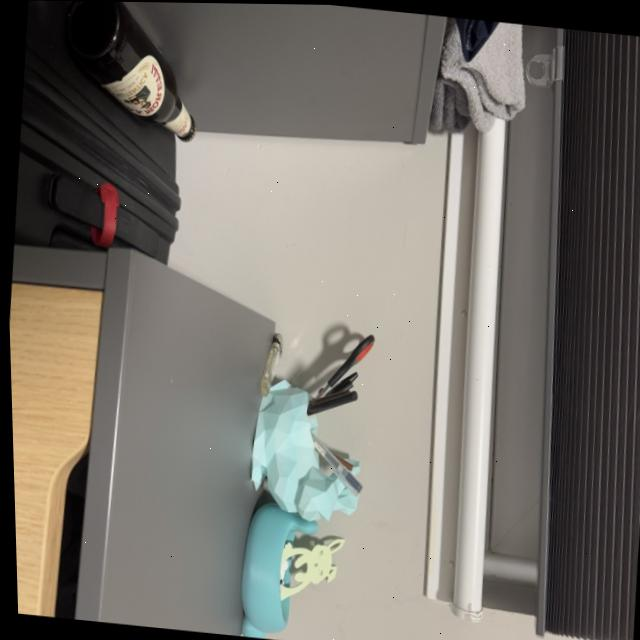beer: (38, 0, 208, 145)
